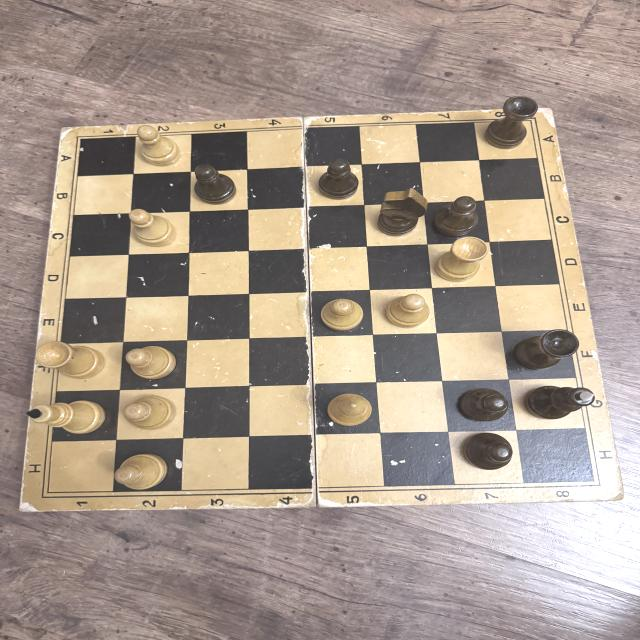black-king: (525, 384, 595, 420)
black-knight: (378, 188, 429, 237)
black-pawn: (432, 195, 482, 237), (461, 432, 513, 470), (459, 385, 509, 423), (194, 163, 238, 205), (318, 159, 363, 200)
black-rook: (484, 96, 536, 149), (516, 329, 580, 371)
white-bishop: (326, 392, 375, 428)
white-king: (24, 400, 108, 436)
white-pawn: (114, 452, 170, 490), (122, 394, 176, 432), (128, 206, 176, 248), (134, 125, 182, 166), (126, 346, 177, 382), (384, 291, 430, 329), (320, 298, 364, 330)
white-rook: (34, 341, 106, 381), (436, 237, 488, 280)
